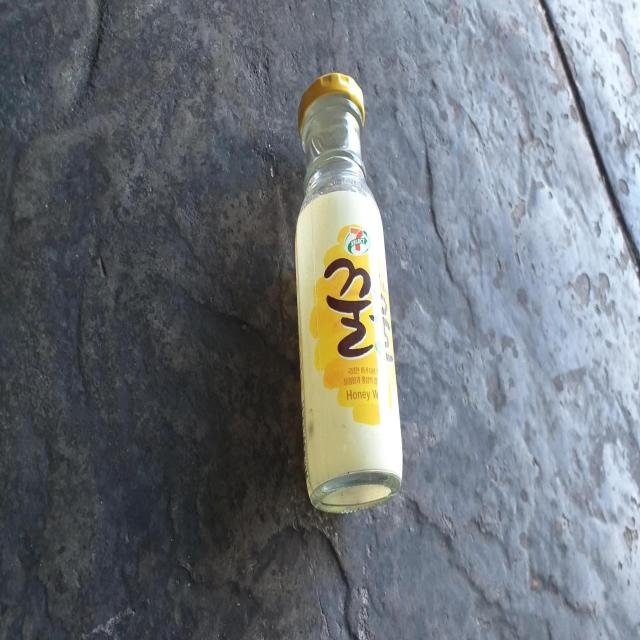glass: (295, 72, 403, 513)
